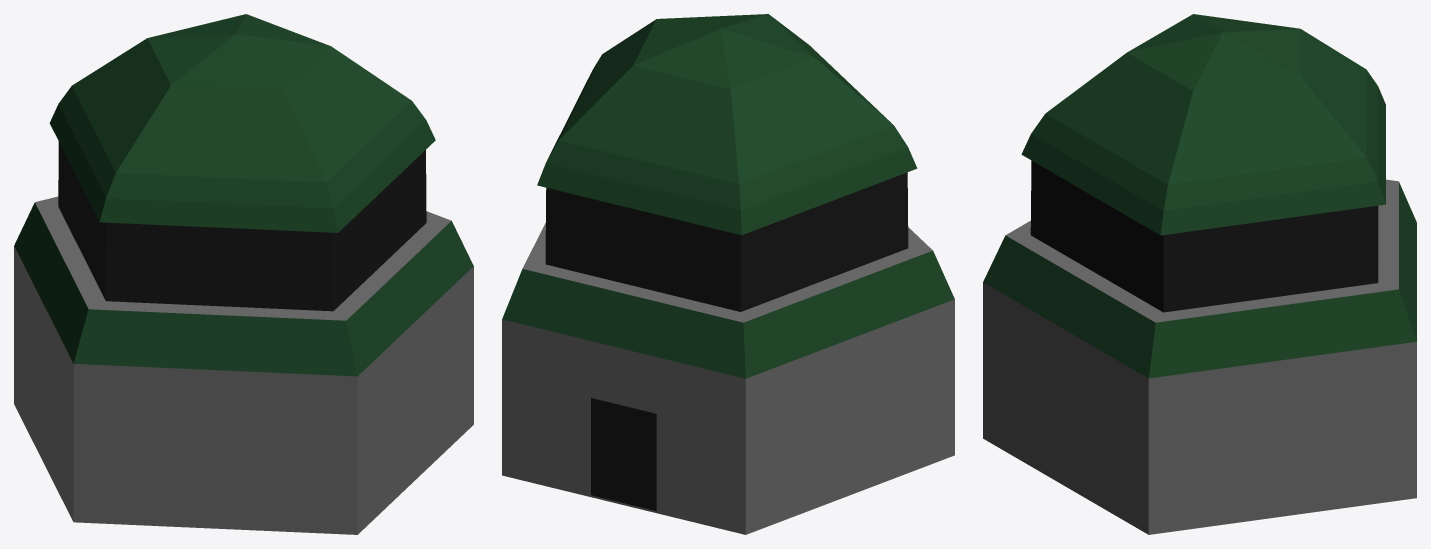
The model's file is Military_Bunker.fbx.
The picture shows the model from 3 angles, left to right: view 1: azimuth 30°, elevation 25°; view 2: azimuth 150°, elevation 25°; view 3: azimuth 270°, elevation 25°; orthographic projection.
Parts seen in each view (by area): view 1: Military_Bunker; view 2: Military_Bunker; view 3: Military_Bunker.
Boxes of the visible parts, box(x1,y1,x2,y2) form: Military_Bunker: box(14, 14, 473, 534); Military_Bunker: box(502, 14, 954, 534); Military_Bunker: box(983, 14, 1416, 534).
Bounding box in the file's own units: 204 × 200 × 194.
